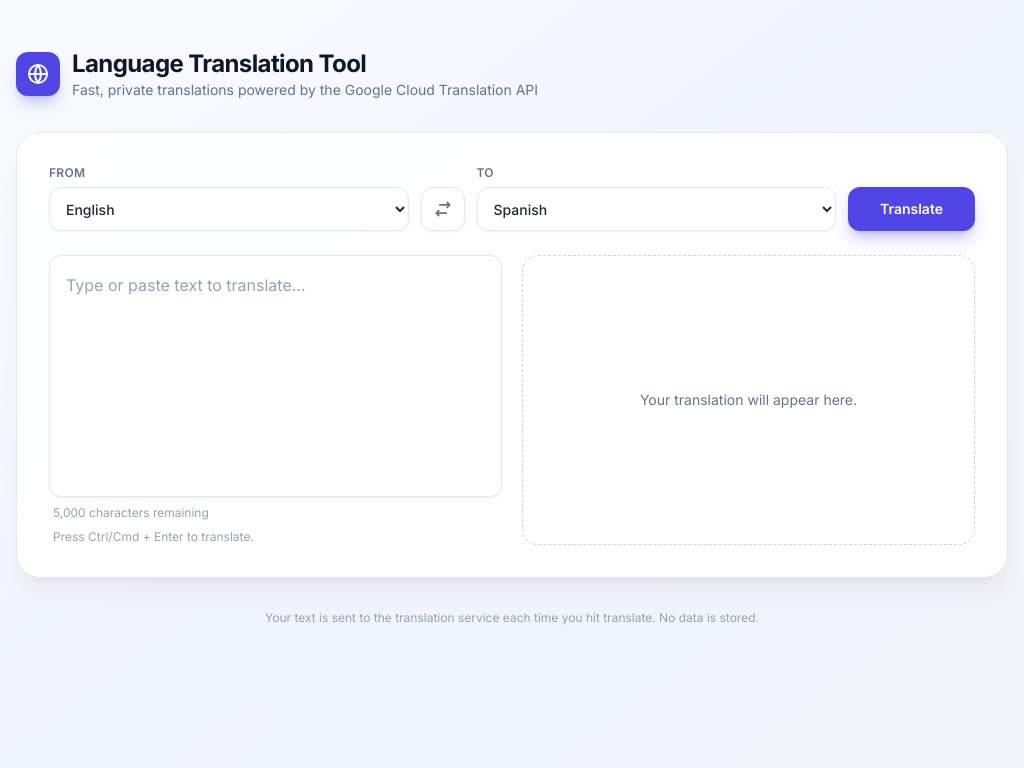
Test case: App › translates text end to end
This screenshot has width=1024, height=768.
Type "Hello" into the text box labelled "Type or paste text to translate..." at (276, 376), box [49,255,502,497]
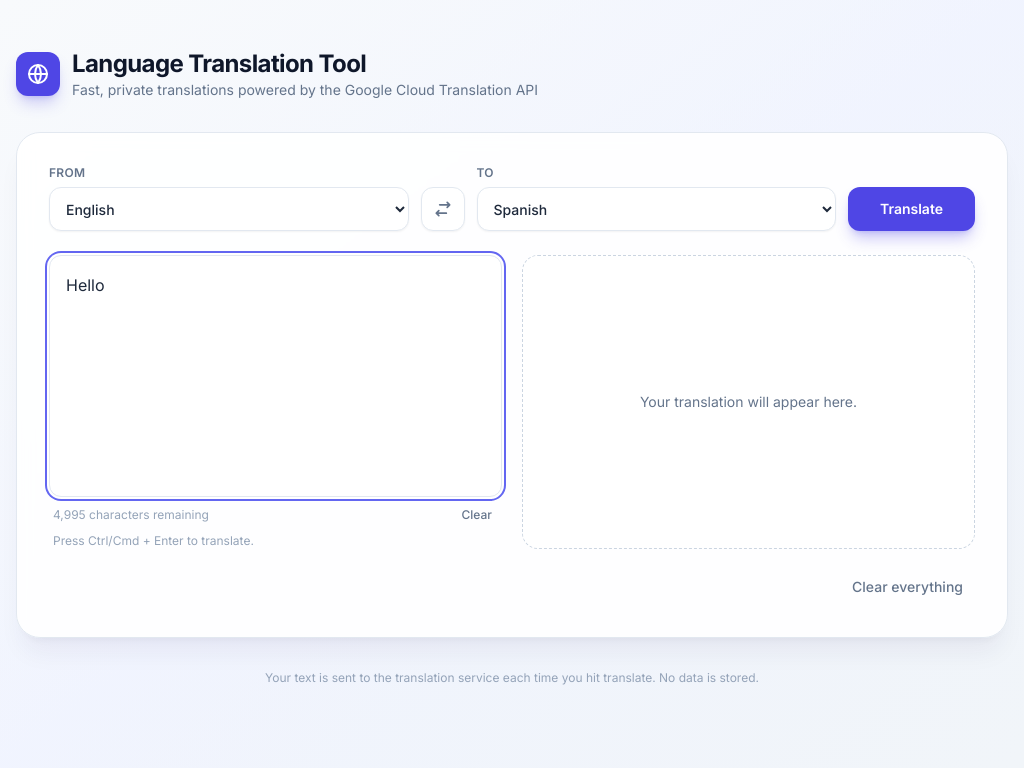
Click the button "Translate" at (912, 209), box [848,187,975,231]
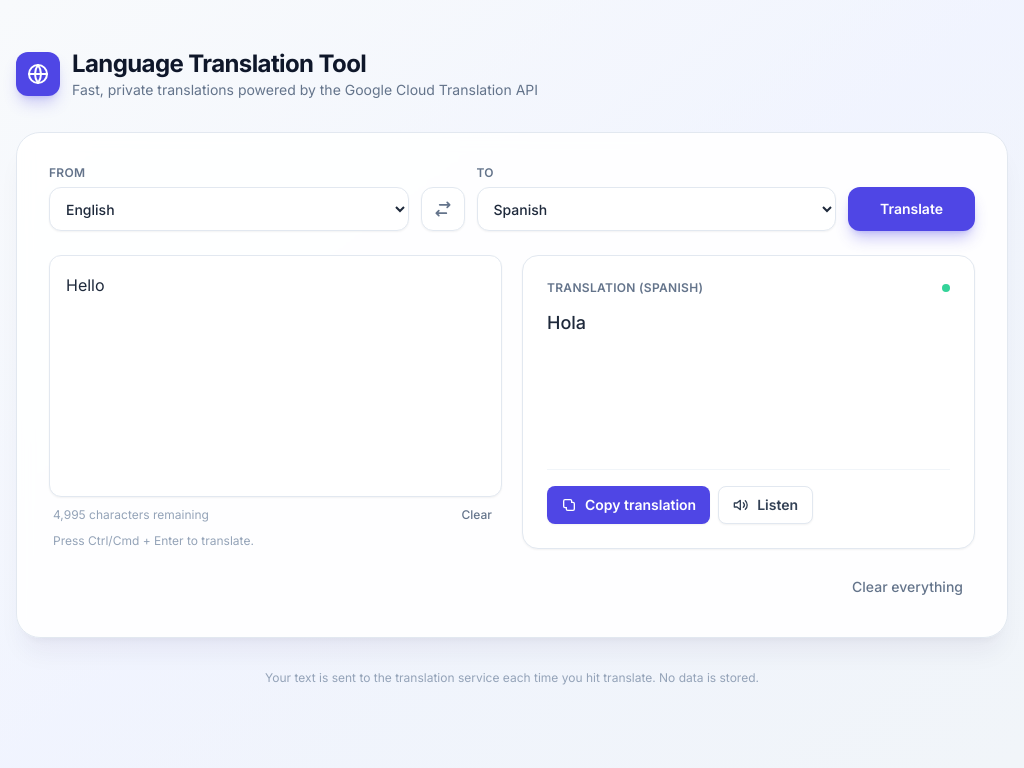
Result: the text "Hola" is shown at [547,312,586,333]
